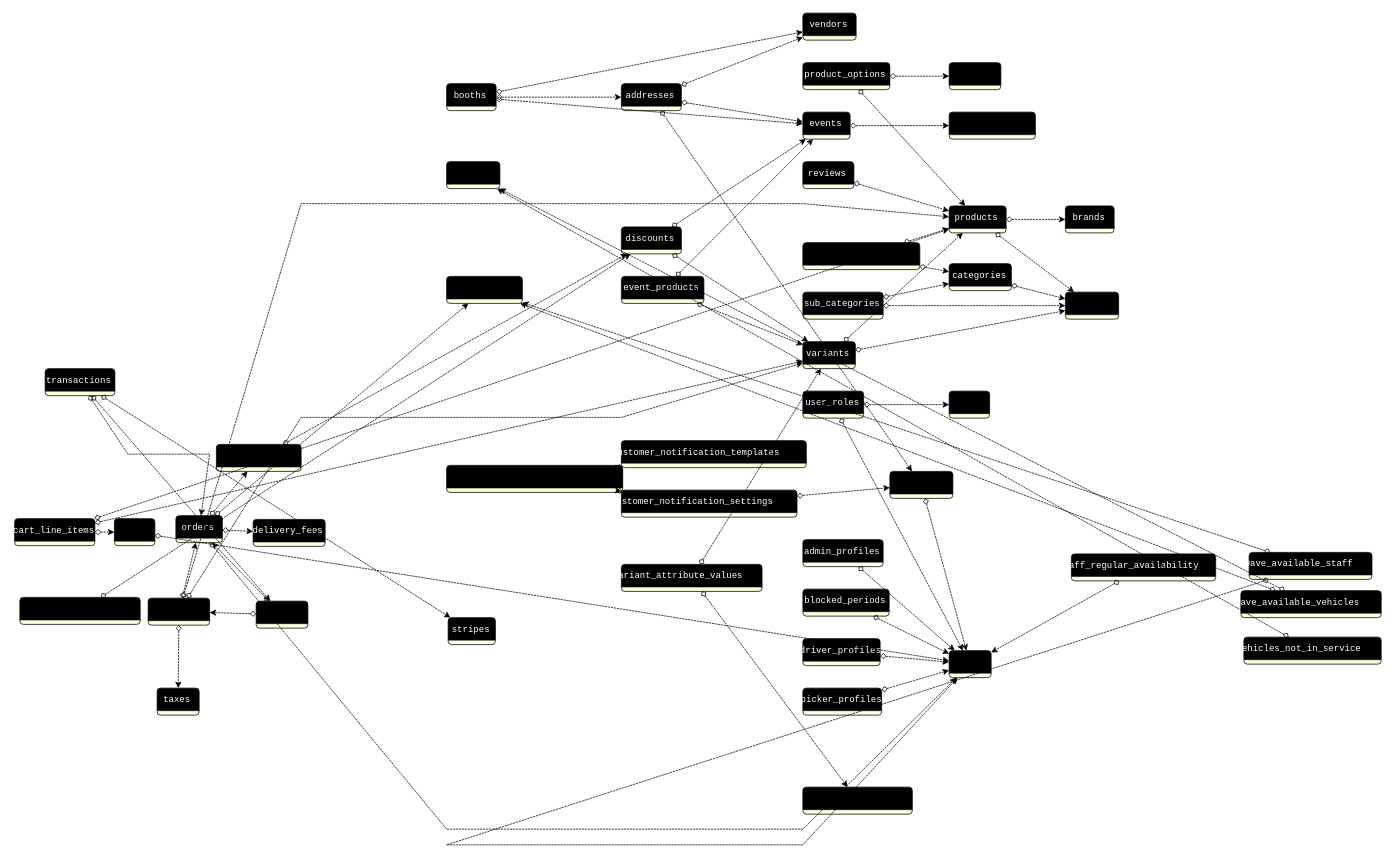
This 1395x865 diagram has some shape labels left out. Here are the shapes that lost their labels. From the top down, the centre of each, then its label:
At (x=974, y=76): "options".
At (x=991, y=125): "event_schedules".
At (x=473, y=175): "vehicles".
At (x=861, y=256): "product_categories".
At (x=484, y=289): "wave_timings".
At (x=1092, y=305): "pictures".
At (x=969, y=404): "roles".
At (x=258, y=457): "order_discounts".
At (x=534, y=478): "customer_notifications_queues".
At (x=921, y=484): "customers".
At (x=134, y=532): "carts".
At (x=79, y=610): "line_item_discounts".
At (x=178, y=611): "line_items".
At (x=281, y=614): "refunds".
At (x=969, y=664): "users".
At (x=857, y=800): "variant_attributes".
